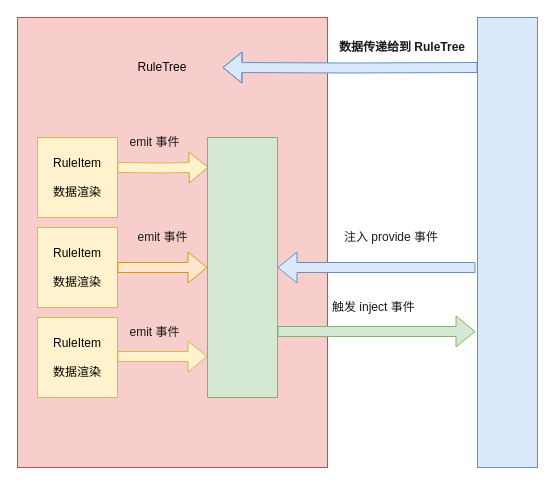
The diagram is 555 pixels wide and 485 high, and some of its shapes have lost their labels. Each missing label, with the centre of its shape:
index: point (507, 242)
事件 Inject: point (242, 267)
